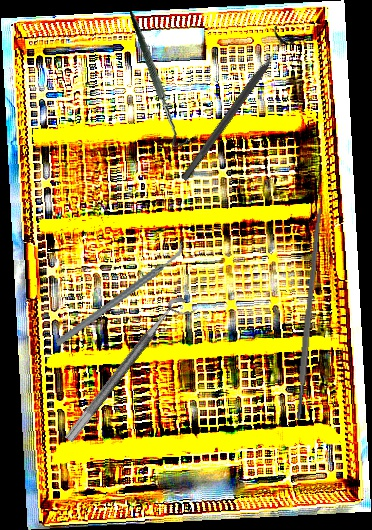Chopper: (40, 239, 200, 349)
Fixation Ring: (63, 292, 197, 453), (172, 24, 298, 187)
Hook Surgical: (112, 11, 208, 149)
Scalpel Handle: (292, 207, 325, 420)
